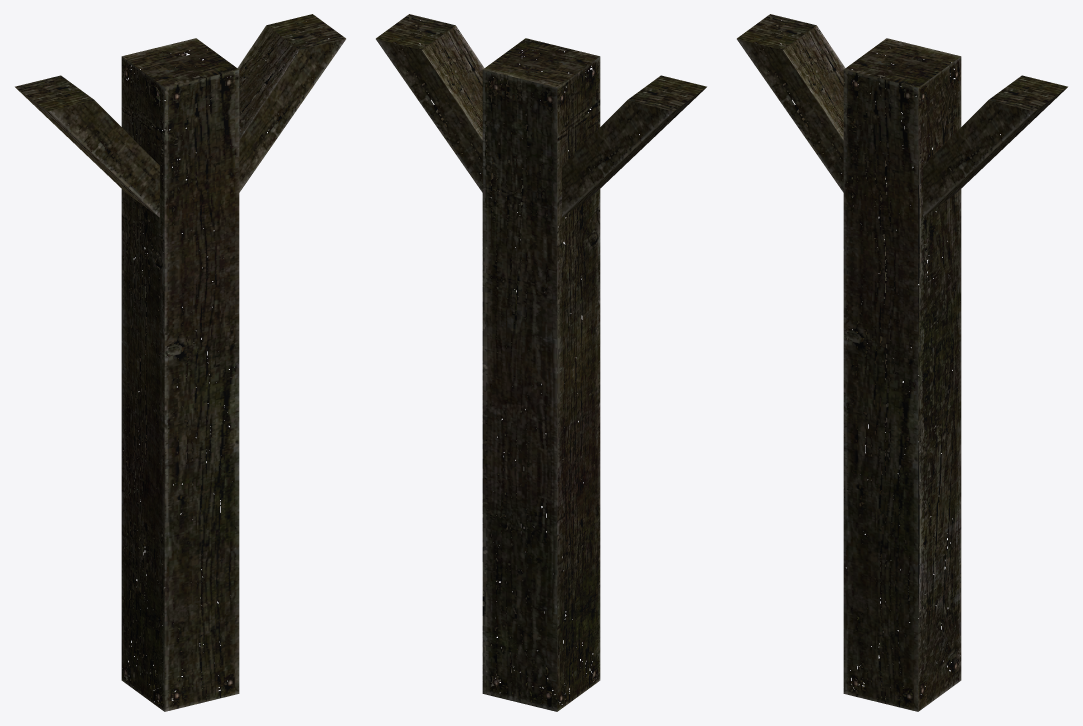
File: wood_short_beam.DAE
The picture shows the model from 3 angles, left to right: view 1: azimuth 30°, elevation 25°; view 2: azimuth 150°, elevation 25°; view 3: azimuth 330°, elevation 25°; orthographic projection.
Visible parts, largest first — view 1: Box001; view 2: Box001; view 3: Box001.
Part boxes in pixels (x1,y1,x2,y2): Box001: (15, 14, 345, 711); Box001: (376, 14, 706, 711); Box001: (737, 14, 1067, 711).
Bounding box in the file's own units: 2 × 4 × 0.5.
